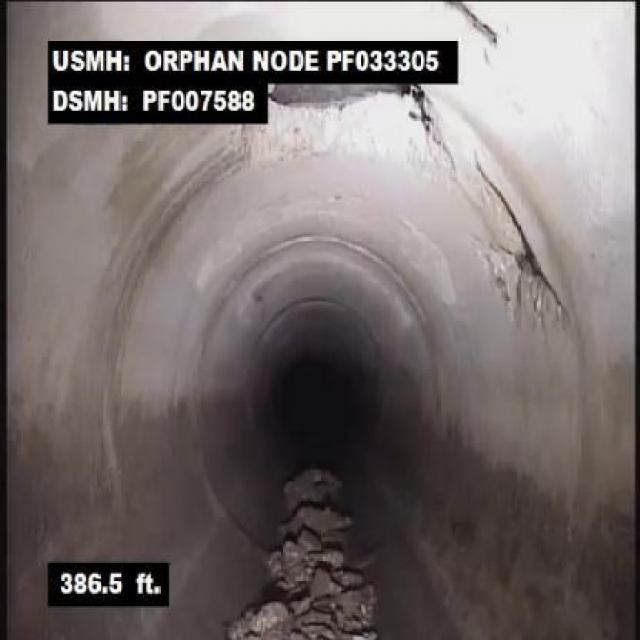Debris: (230, 509, 388, 638)
Hole: (446, 152, 586, 352)
